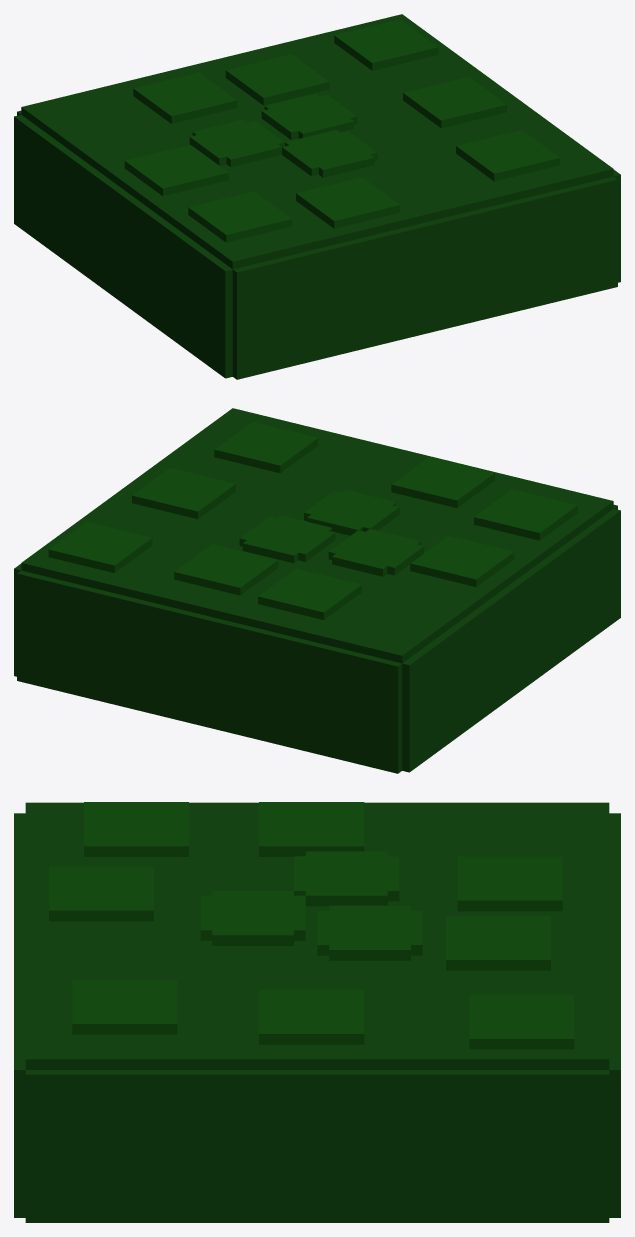
The model's file is Tree01_Upper.obj.
3 renders of one model, top to bottom at view 1: azimuth 30°, elevation 25°; view 2: azimuth 150°, elevation 25°; view 3: azimuth 270°, elevation 25°, orthographic. The views are drawn at different scales.
Parts seen in each view (by area): view 1: Tree01_Upper; view 2: Tree01_Upper; view 3: Tree01_Upper.
Boxes of the visible parts, x1,y1,x2,y2 form: Tree01_Upper: [14, 14, 620, 379]; Tree01_Upper: [14, 408, 620, 773]; Tree01_Upper: [14, 802, 620, 1222].
Size of the model in its own units: 3.38 by 1 by 3.25.
